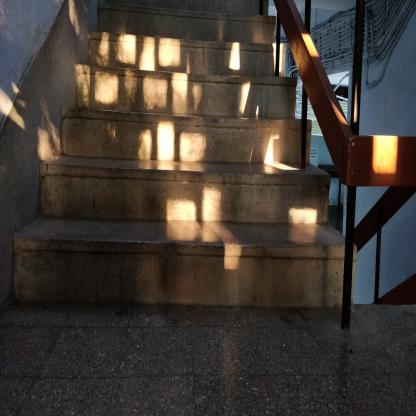stairs: (92, 48, 275, 337)
